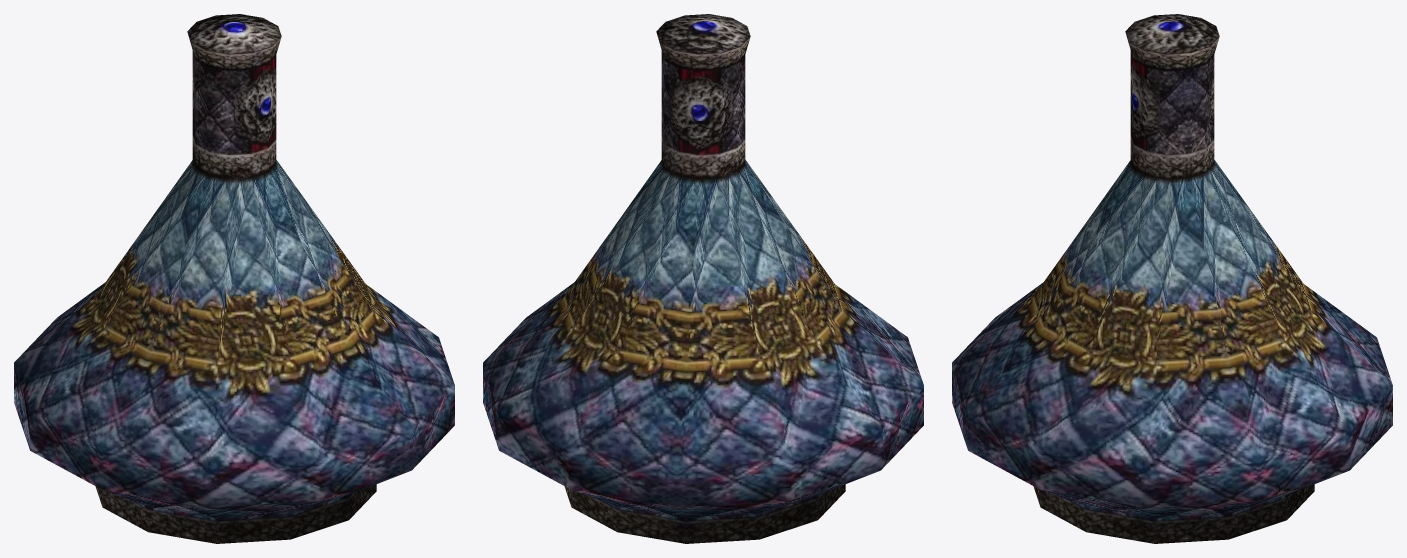
Rendered from ITPO_MANA_03.glb.
3 views of the same model, side by side, from view 1: azimuth 30°, elevation 25°; view 2: azimuth 150°, elevation 25°; view 3: azimuth 270°, elevation 25° (orthographic).
Visible parts, largest first — view 1: Mesh; view 2: Mesh; view 3: Mesh.
Boxes of the visible parts, left/top/right/bottom form: Mesh: left=14, top=14, right=454, bottom=543; Mesh: left=483, top=14, right=923, bottom=543; Mesh: left=952, top=14, right=1392, bottom=543.
Size of the model in its own units: 0.2977 by 0.3426 by 0.2977.
Materials: 1 (1 with a texture image).
